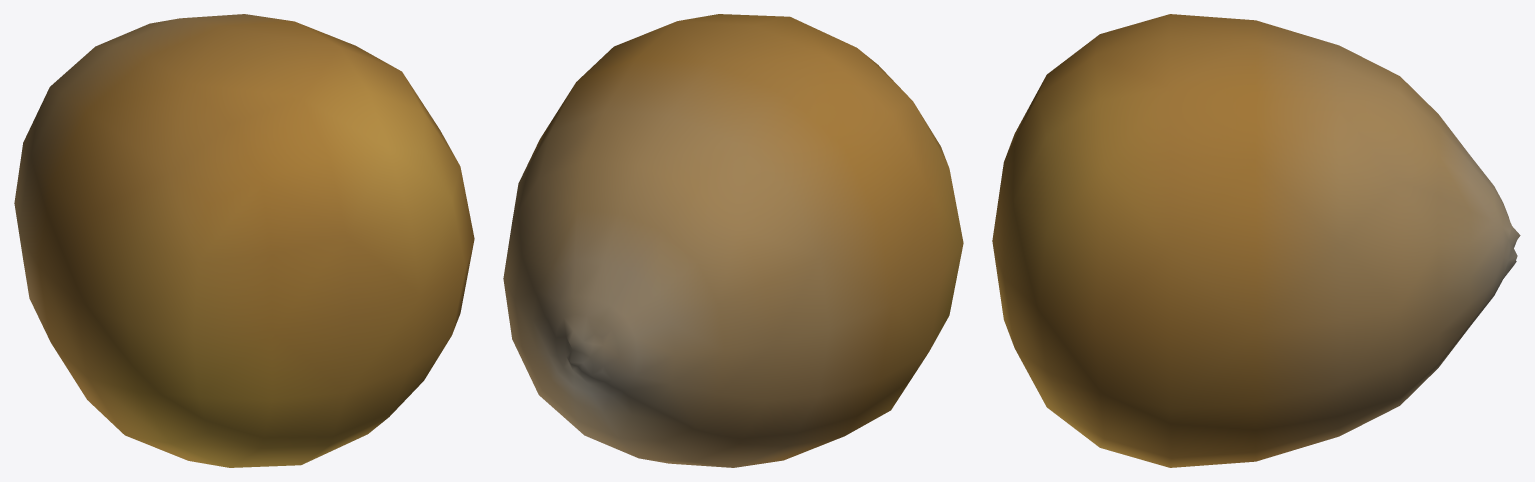
3 views of the same model, side by side, from view 1: azimuth 30°, elevation 25°; view 2: azimuth 150°, elevation 25°; view 3: azimuth 270°, elevation 25° (orthographic).
Parts seen in each view (by area): view 1: alt4.175; view 2: alt4.175; view 3: alt4.175.
Part boxes in pixels (x1,y1,x2,y2): alt4.175: (14,14,474,467); alt4.175: (503,14,963,467); alt4.175: (992,14,1520,467).
Bounding box in the file's own units: 0.4159 × 0.4249 × 0.5.
